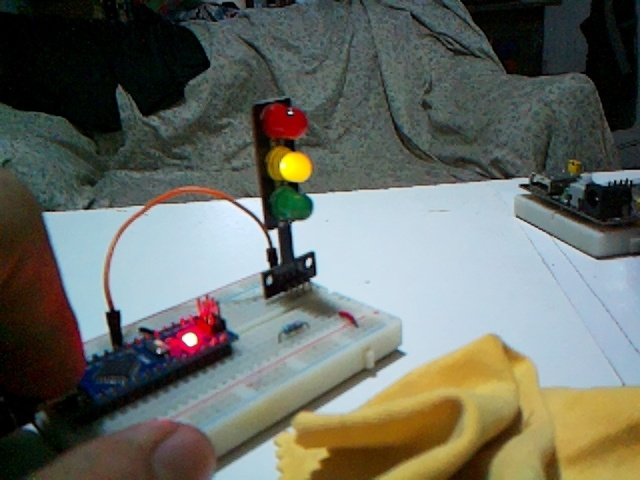traffic_light_yellow: (253, 99, 315, 289)
